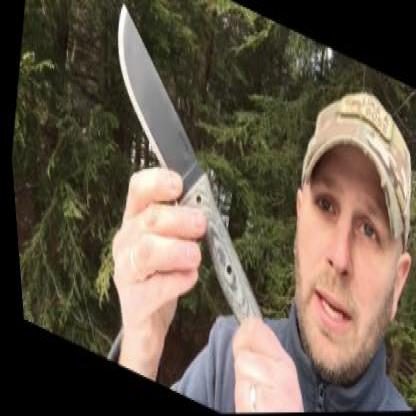knife: (83, 0, 246, 256)
